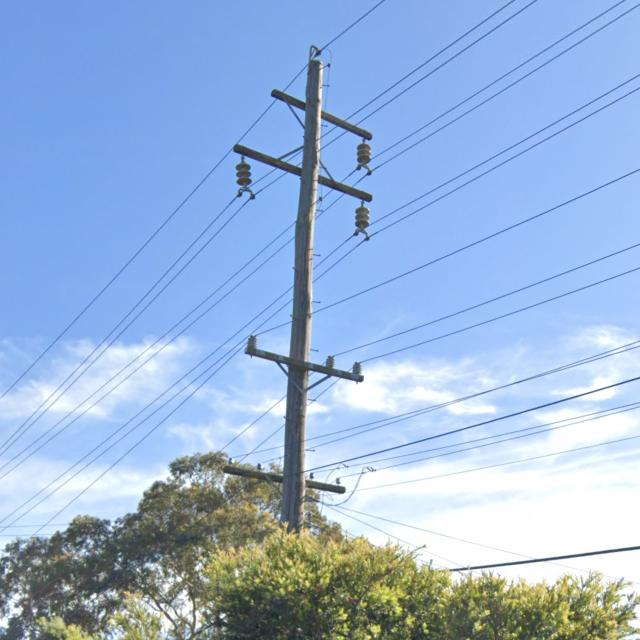HV-transmission: (231, 64, 376, 235)
crossarm: (234, 142, 372, 203), (271, 86, 372, 139), (246, 344, 364, 381), (222, 464, 346, 494)
timber-pole: (280, 62, 324, 526)
